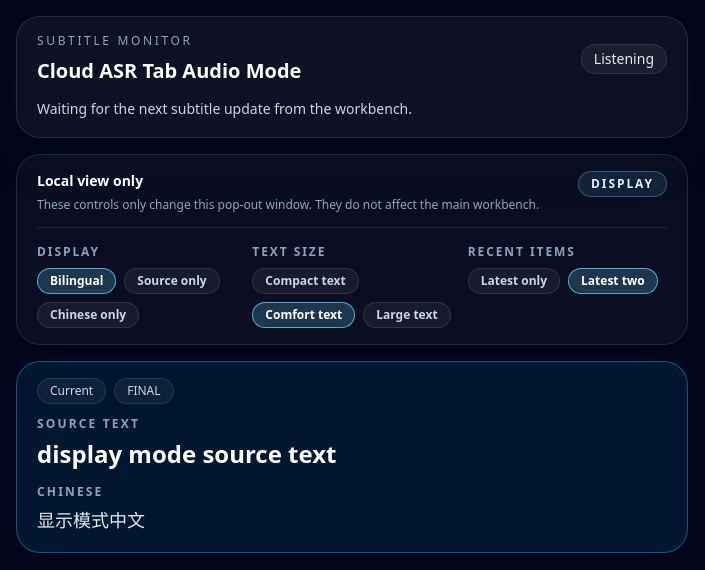
HomePage › lets the subtitle monitor switch between bilingual, source-only, and Chinese-only views locally
Expected: the text "display mode source text" is shown, [37,437,336,470]
Expected: the text "显示模式中文" is shown, [37,508,145,532]
Click the button "Chinese only" at [88, 315], box [37,302,139,328]
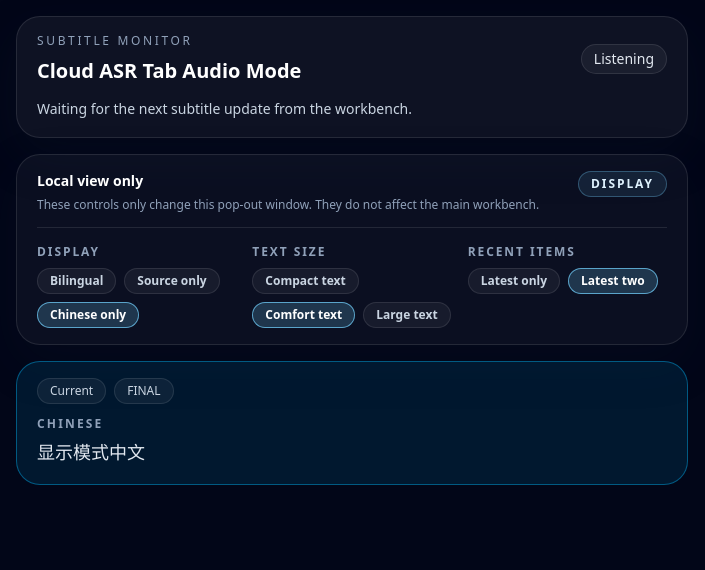
Expected: the text "显示模式中文" is shown, [37,440,145,464]
Expected: the text "display mode source text" is gone
Click the button "Source only" at [172, 281], box [124,268,220,294]
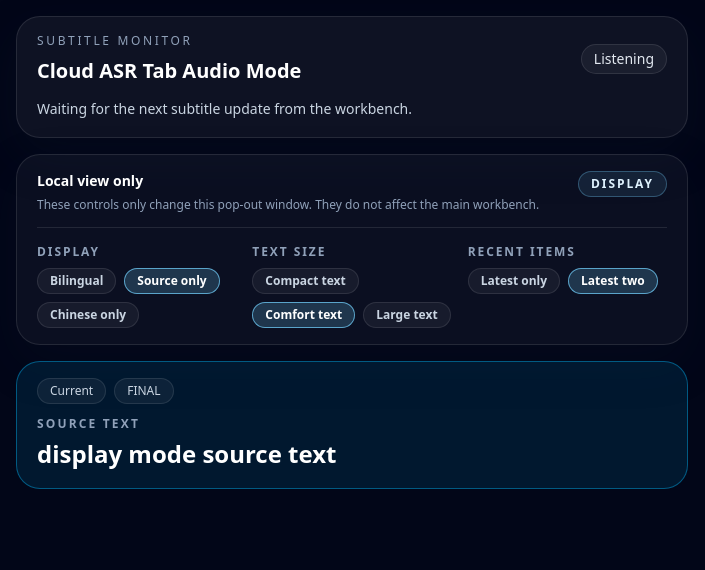
Expected: the text "display mode source text" is shown, [37,437,336,470]
Expected: the text "显示模式中文" is gone
Click the button "Bilingual" at [77, 281], box [37,268,116,294]
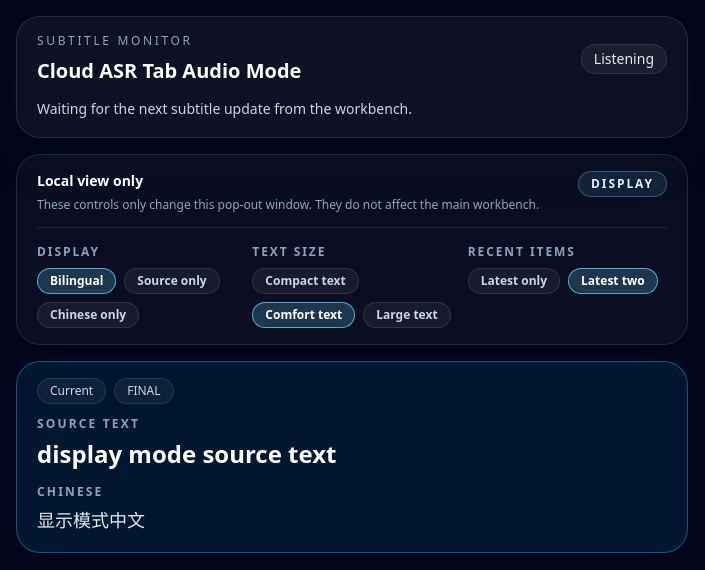
Expected: the text "display mode source text" is shown, [37,437,336,470]
Expected: the text "显示模式中文" is shown, [37,508,145,532]
